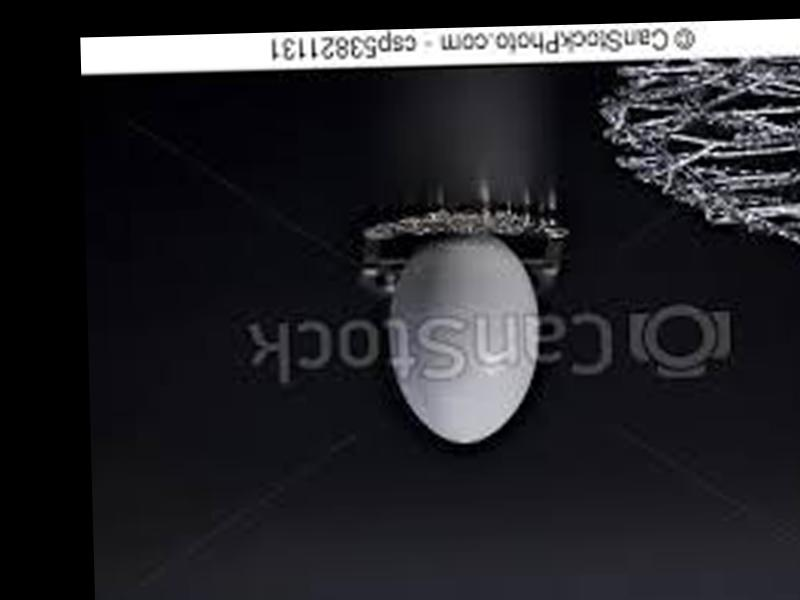Eggs: (386, 231, 543, 444)
